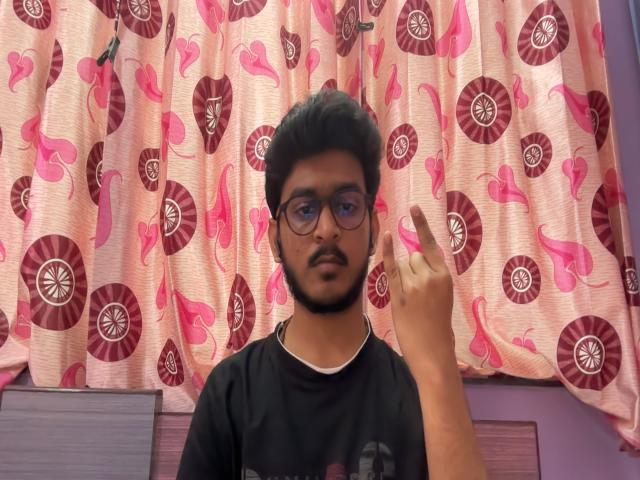I Love You: (370, 197, 480, 374)
